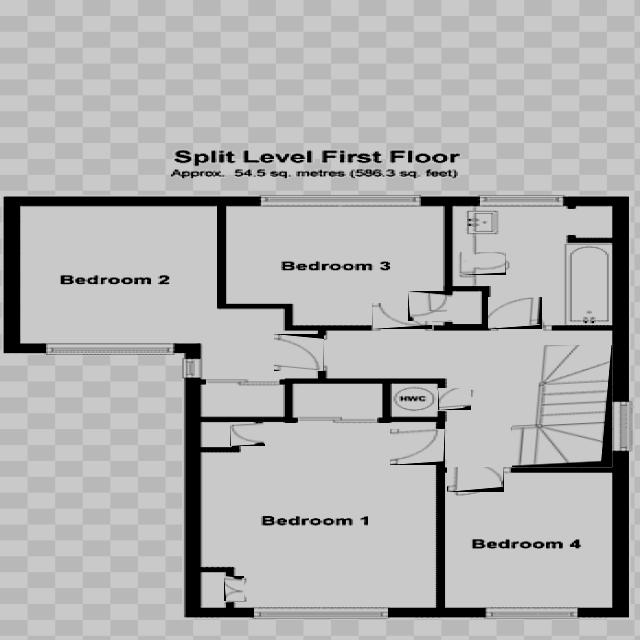door: (390, 429, 445, 465), (274, 334, 324, 371), (488, 298, 542, 330), (372, 303, 432, 329), (447, 467, 504, 492), (408, 291, 447, 321), (230, 422, 265, 446), (438, 388, 471, 410), (224, 576, 244, 601)
stair: (512, 346, 612, 468)
toilet: (460, 252, 506, 275)
